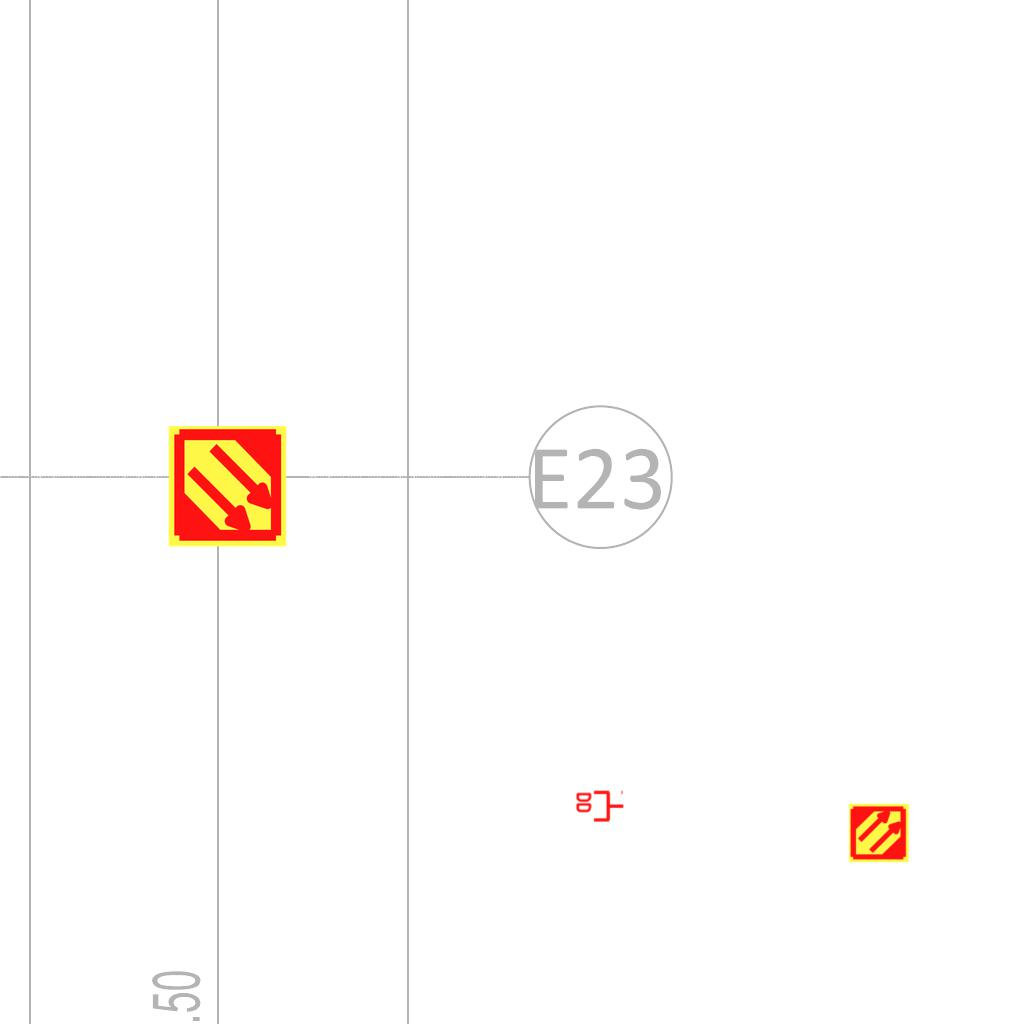ASR_Ansaugrauchmelder: (165, 424, 290, 549), (848, 802, 910, 864)
Datenanschluss_zweifach: (574, 790, 625, 824)
